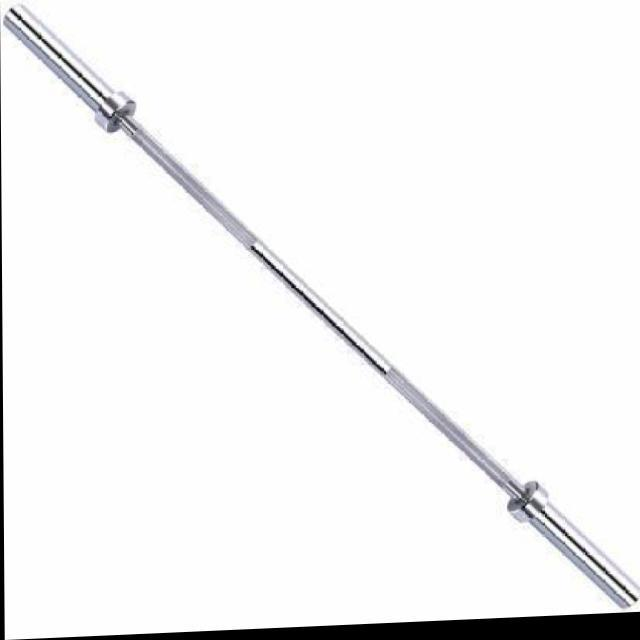barbell: (1, 1, 143, 146)
